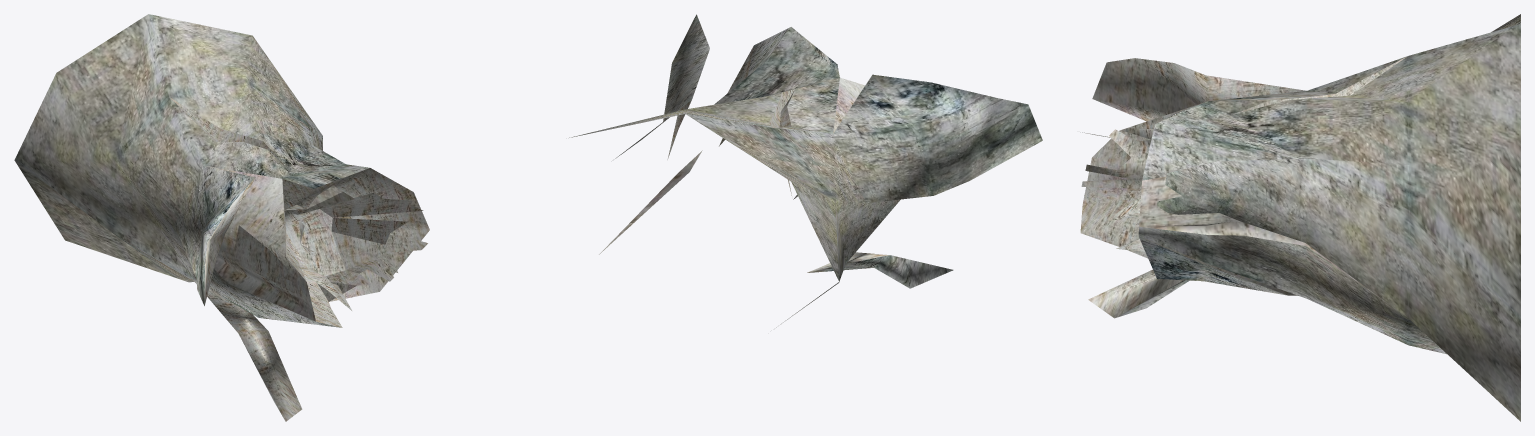
File: tree_destroyed_snow_stump_b.glb
3 renders of one model, left to right at view 1: azimuth 30°, elevation 25°; view 2: azimuth 150°, elevation 25°; view 3: azimuth 270°, elevation 25°, orthographic. The views are drawn at different scales.
Size of the model in its own units: 69.74 by 60.1 by 75.53.
1 material, 1 textured.
